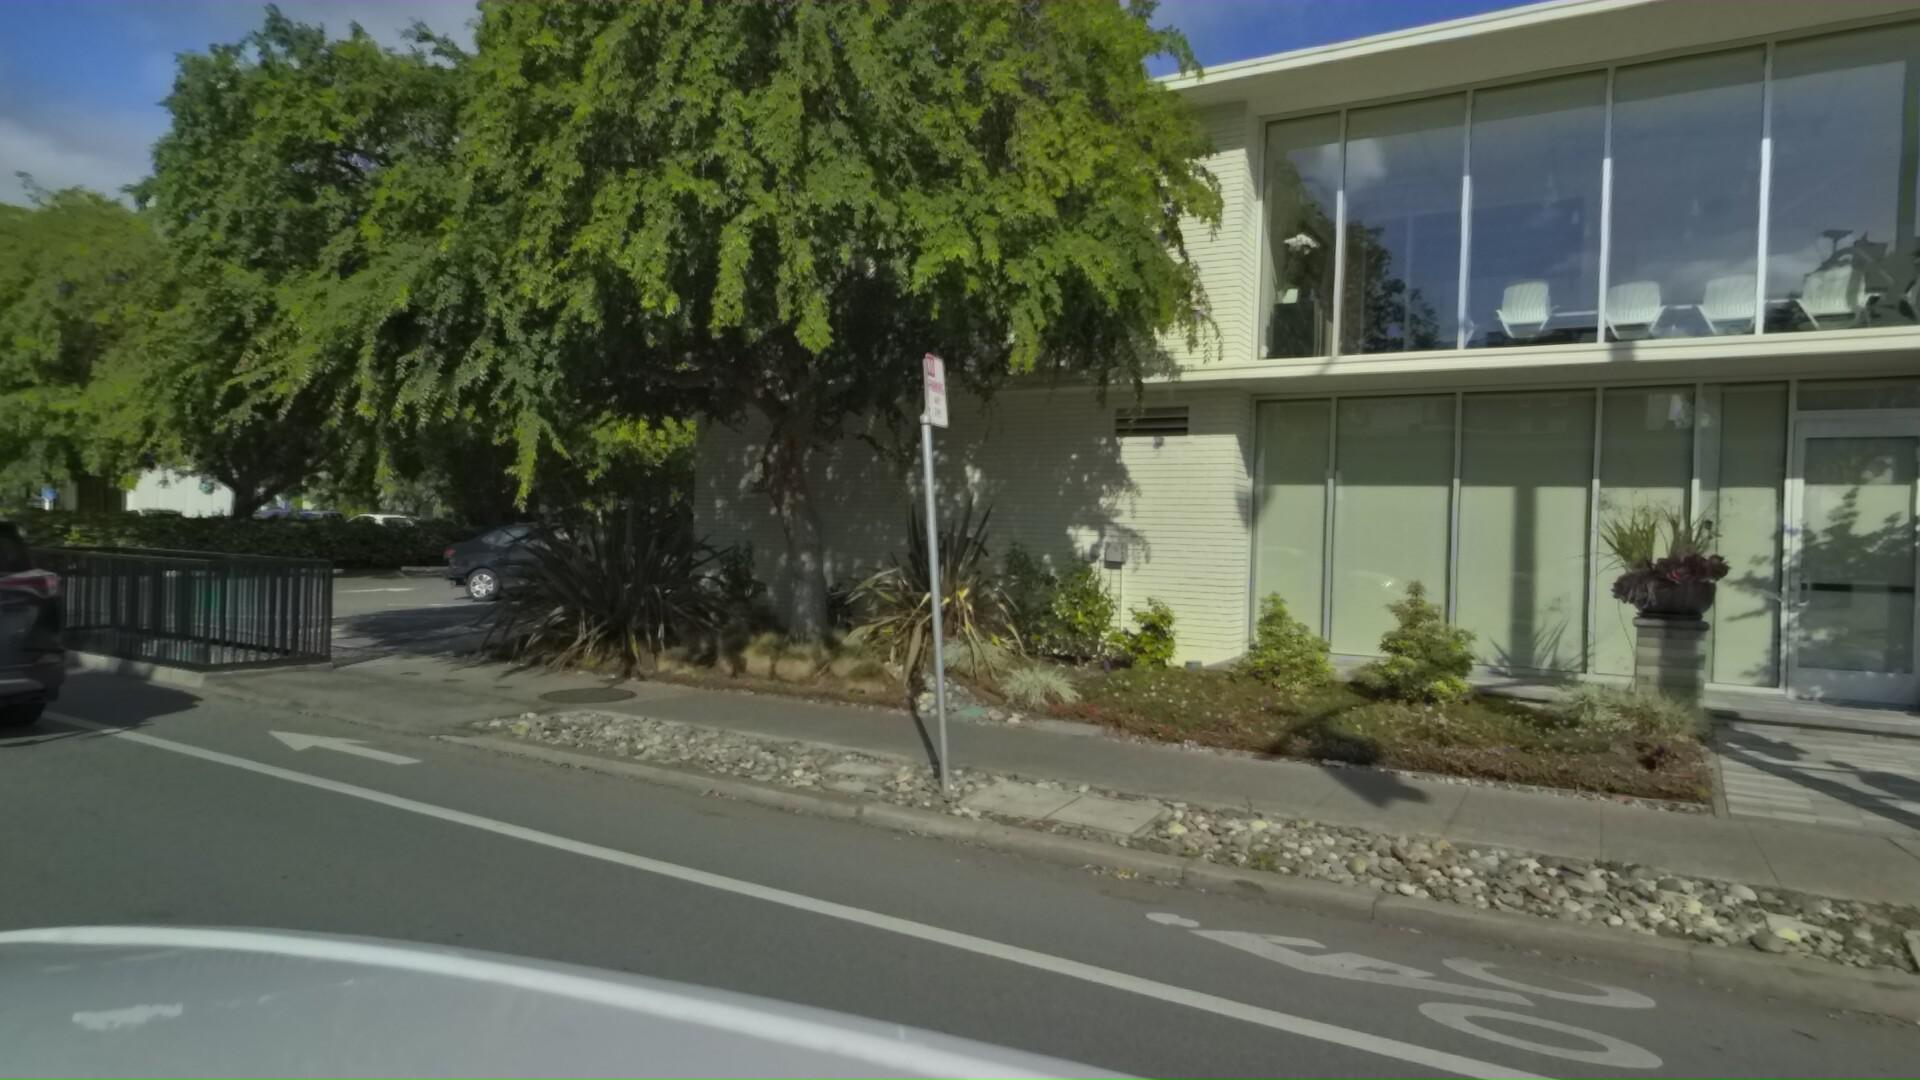car: (0, 462, 94, 785), (425, 505, 707, 607)
